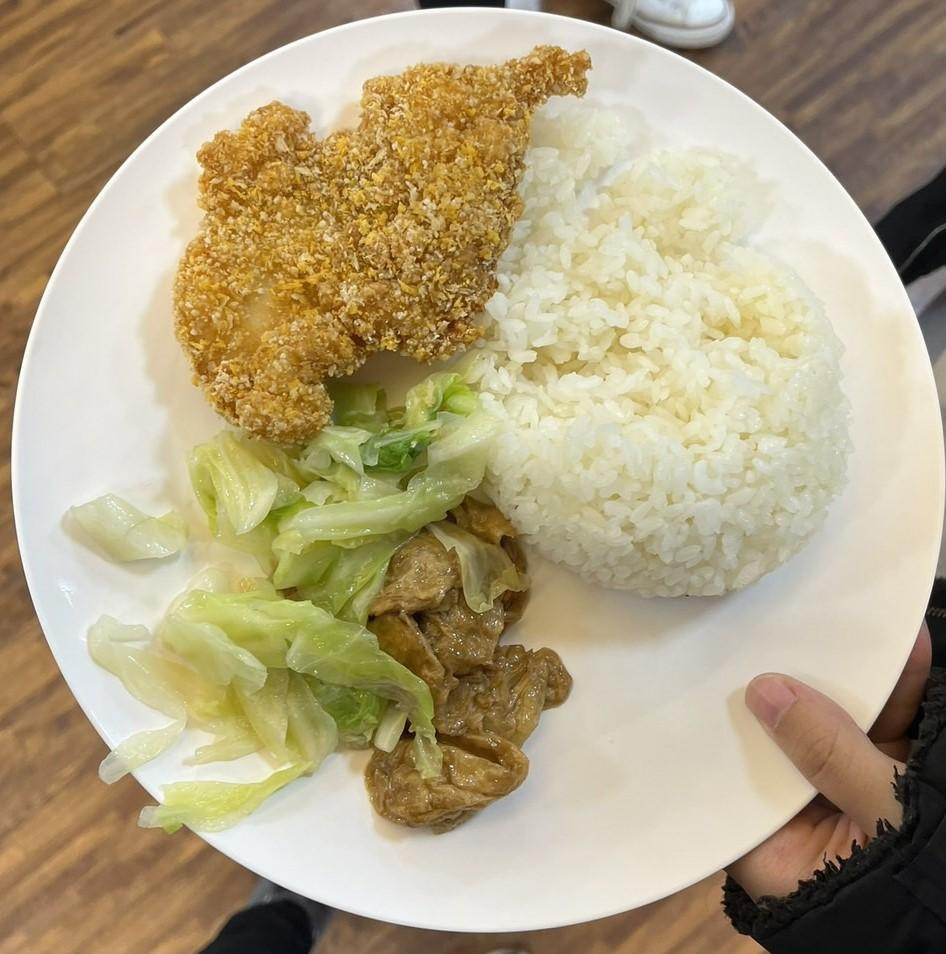big fried chicken leg: (14, 2, 946, 951)
big herbal chicken leg: (486, 98, 843, 606)
braised fish fillet: (67, 364, 484, 828), (360, 512, 574, 836)
braised pork: (168, 30, 590, 449)
